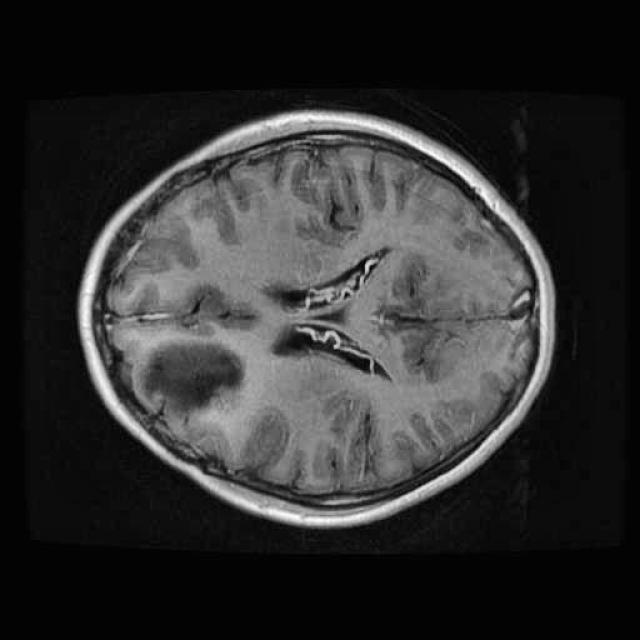Tumor: (131, 334, 253, 430)
